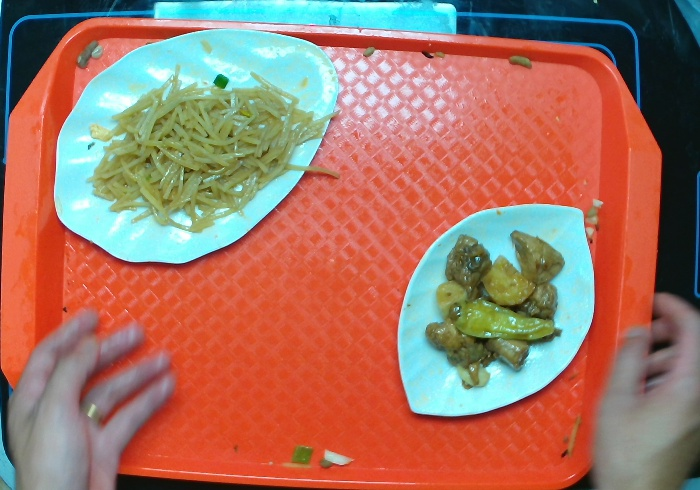RJxy-Bai_Ye_Pan: (49, 22, 338, 267)
RJxy-Da_Du_Pan: (395, 204, 600, 418)
